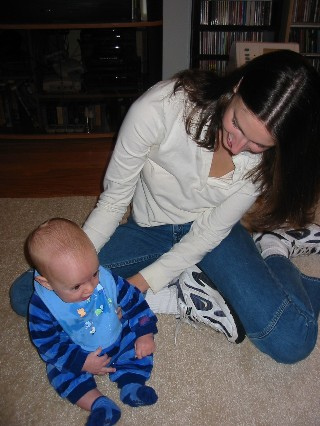person: (9, 49, 320, 366), (27, 216, 159, 426)
